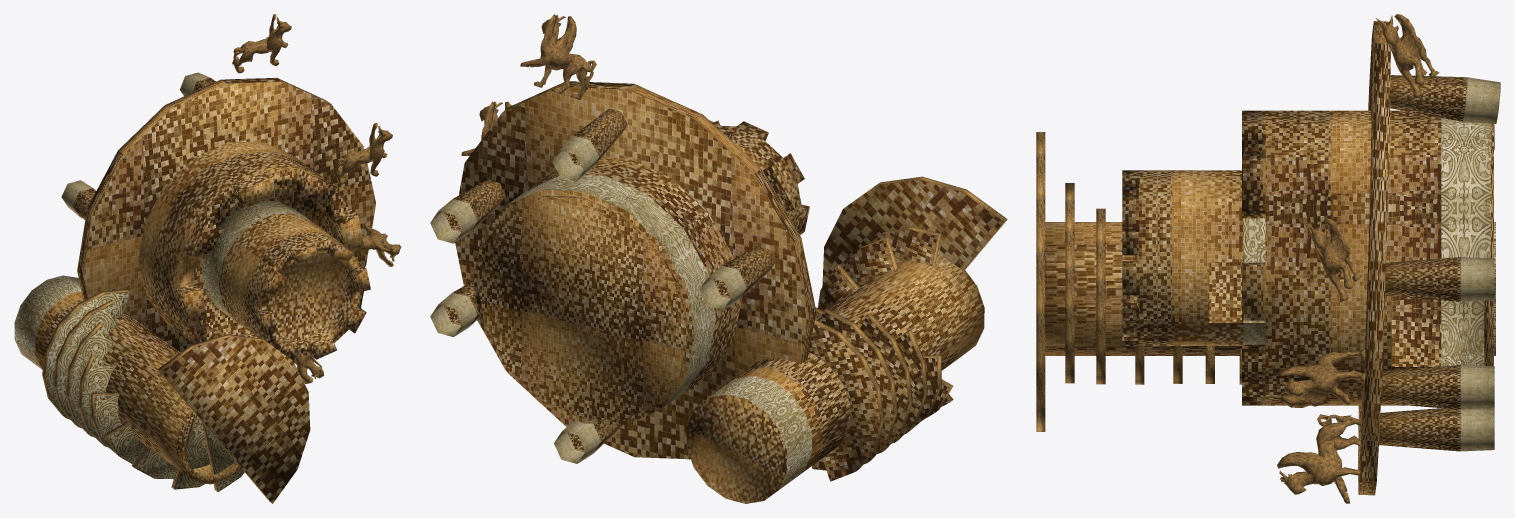
File: citadel_000053.obj
The picture shows the model from 3 angles, left to right: view 1: azimuth 30°, elevation 25°; view 2: azimuth 150°, elevation 25°; view 3: azimuth 270°, elevation 25°; orthographic projection. The views are drawn at different scales.
Visible parts, largest first — view 1: Cylinder_Cylinder.002, Cylinder.001_Cylinder.009, Cylinder.007_Cylinder.010, stair.009_Cylinder.018, Cylinder.008_Cylinder.011, stair_Cylinder.000, stair.001_Cylinder.001, stair.002_Cylinder.003, stair.003_Cylinder.012, lion_feline, stair.007_Cylinder.016, lion.003_feline.004 (+8 smaller); view 2: Cylinder_Cylinder.002, Cylinder.009_Cylinder.019, Cylinder.008_Cylinder.011, Cylinder.001_Cylinder.009, stair.009_Cylinder.018, stair_Cylinder.000, Cylinder.007_Cylinder.010, Cylinder.003_Cylinder.008, lion.003_feline.004, stair.001_Cylinder.001, Cylinder.006_Cylinder.007, Cylinder.005_Cylinder.006 (+8 smaller); view 3: Cylinder.001_Cylinder.009, Cylinder.007_Cylinder.010, Cylinder.008_Cylinder.011, Cylinder_Cylinder.002, Cylinder.002_Cylinder.004, Cylinder.004_Cylinder.005, Cylinder.005_Cylinder.006, Cylinder.003_Cylinder.008, lion.002_feline.003, stair.009_Cylinder.018, lion.001_feline.001, lion.003_feline.004 (+4 smaller).
Boxes of the visible parts, <box> form: Cylinder_Cylinder.002: <box>77,77,375,362</box>; Cylinder.001_Cylinder.009: <box>138,141,364,359</box>; Cylinder.007_Cylinder.010: <box>201,201,370,360</box>; stair.009_Cylinder.018: <box>158,334,310,503</box>; Cylinder.008_Cylinder.011: <box>14,275,242,484</box>; stair_Cylinder.000: <box>42,289,129,419</box>; stair.001_Cylinder.001: <box>53,300,116,428</box>; stair.002_Cylinder.003: <box>65,322,114,437</box>; stair.003_Cylinder.012: <box>78,354,114,447</box>; lion_feline: <box>334,123,392,184</box>; stair.007_Cylinder.016: <box>171,416,209,489</box>; lion.003_feline.004: <box>232,14,291,73</box>; Cylinder_Cylinder.002: <box>455,81,816,459</box>; Cylinder.009_Cylinder.019: <box>477,195,689,420</box>; Cylinder.008_Cylinder.011: <box>686,255,984,503</box>; Cylinder.001_Cylinder.009: <box>473,120,793,424</box>; stair.009_Cylinder.018: <box>822,176,1007,286</box>; stair_Cylinder.000: <box>809,319,884,481</box>; Cylinder.007_Cylinder.010: <box>714,120,809,234</box>; Cylinder.003_Cylinder.008: <box>552,108,627,181</box>; lion.003_feline.004: <box>520,14,596,99</box>; stair.001_Cylinder.001: <box>812,308,897,470</box>; Cylinder.006_Cylinder.007: <box>699,246,775,310</box>; Cylinder.005_Cylinder.006: <box>430,179,505,243</box>; Cylinder.001_Cylinder.009: <box>1242,110,1490,405</box>; Cylinder.007_Cylinder.010: <box>1122,170,1265,345</box>; Cylinder.008_Cylinder.011: <box>1045,222,1495,355</box>; Cylinder_Cylinder.002: <box>1358,21,1390,495</box>; Cylinder.002_Cylinder.004: <box>1381,364,1494,409</box>; Cylinder.004_Cylinder.005: <box>1379,408,1494,451</box>; Cylinder.005_Cylinder.006: <box>1385,257,1494,301</box>; Cylinder.003_Cylinder.008: <box>1390,75,1500,123</box>; lion.002_feline.003: <box>1277,414,1360,503</box>; stair.009_Cylinder.018: <box>1036,132,1045,431</box>; lion.001_feline.001: <box>1277,349,1365,407</box>; lion.003_feline.004: <box>1376,14,1439,98</box>.
Bounding box in the file's own units: 21.12 × 21.26 × 17.59.
